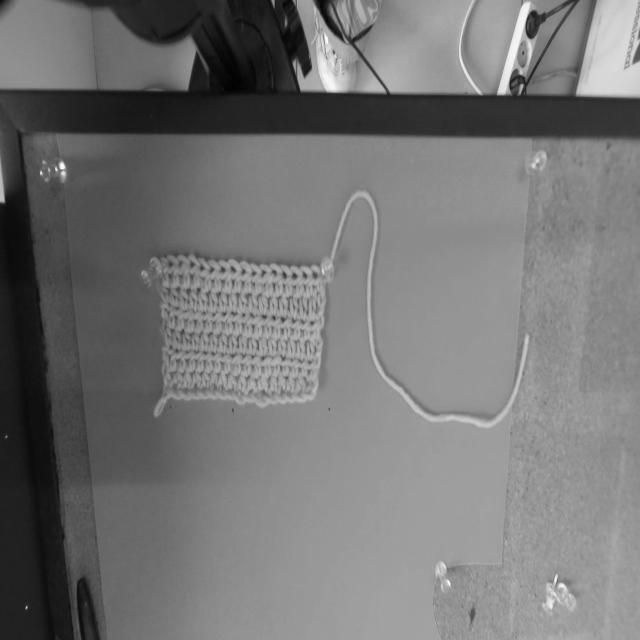ch: (248, 393, 267, 406), (167, 389, 184, 400), (201, 388, 217, 399), (236, 393, 253, 403), (259, 395, 277, 404), (232, 392, 245, 404), (187, 389, 201, 399), (176, 390, 191, 399), (213, 389, 228, 398), (195, 389, 209, 398), (272, 394, 286, 403), (223, 390, 235, 400), (281, 394, 295, 402), (289, 395, 304, 402), (301, 395, 313, 399)
hdc: (299, 265, 315, 298), (197, 257, 212, 292), (207, 259, 222, 293), (177, 253, 191, 289), (228, 260, 243, 293), (218, 259, 232, 293), (239, 261, 253, 295), (269, 263, 283, 297), (279, 264, 293, 298), (290, 264, 304, 297), (260, 263, 273, 298), (167, 255, 180, 289), (187, 254, 200, 288), (251, 309, 265, 340), (230, 305, 244, 335), (241, 306, 254, 338), (309, 264, 323, 293), (240, 347, 252, 380), (192, 303, 204, 333), (262, 309, 274, 339), (250, 264, 262, 294), (176, 342, 187, 374), (198, 278, 208, 313), (183, 305, 195, 334), (222, 305, 233, 336), (281, 310, 292, 341), (289, 287, 299, 321), (289, 351, 301, 379), (211, 307, 223, 335), (291, 311, 302, 341), (166, 346, 178, 373), (248, 284, 258, 316), (202, 305, 213, 334), (308, 287, 317, 322), (308, 356, 321, 380), (279, 289, 289, 320), (231, 348, 242, 376), (161, 318, 172, 346), (300, 314, 311, 342), (306, 331, 316, 361), (218, 325, 228, 355), (258, 286, 268, 316), (179, 281, 189, 311), (256, 372, 269, 395), (221, 347, 232, 374), (194, 345, 205, 372), (261, 352, 272, 379), (209, 322, 218, 355), (258, 328, 268, 357), (189, 279, 198, 311), (157, 280, 169, 304), (250, 351, 261, 377), (309, 314, 320, 340), (172, 323, 182, 351), (268, 326, 277, 357), (209, 282, 218, 313), (212, 346, 222, 373), (271, 310, 280, 340), (269, 290, 279, 317), (200, 324, 209, 353), (299, 292, 308, 321), (185, 345, 195, 371), (174, 308, 185, 331), (224, 369, 236, 390), (239, 286, 248, 314), (228, 285, 237, 313), (219, 284, 228, 312), (170, 279, 179, 307), (181, 367, 192, 389), (183, 321, 191, 351), (165, 306, 175, 330), (204, 346, 213, 372), (281, 351, 290, 377), (279, 328, 287, 357), (229, 326, 237, 355), (192, 323, 200, 352), (272, 352, 281, 377), (287, 333, 296, 358), (297, 333, 305, 361), (173, 368, 183, 390), (239, 329, 247, 356), (317, 288, 325, 315), (246, 372, 256, 393), (295, 372, 305, 393), (306, 375, 317, 394), (192, 365, 201, 388), (269, 371, 278, 394), (300, 354, 309, 377), (248, 332, 257, 355), (200, 366, 209, 388), (209, 368, 218, 389), (237, 372, 246, 393), (217, 369, 227, 387), (287, 371, 295, 393), (278, 373, 286, 393)
